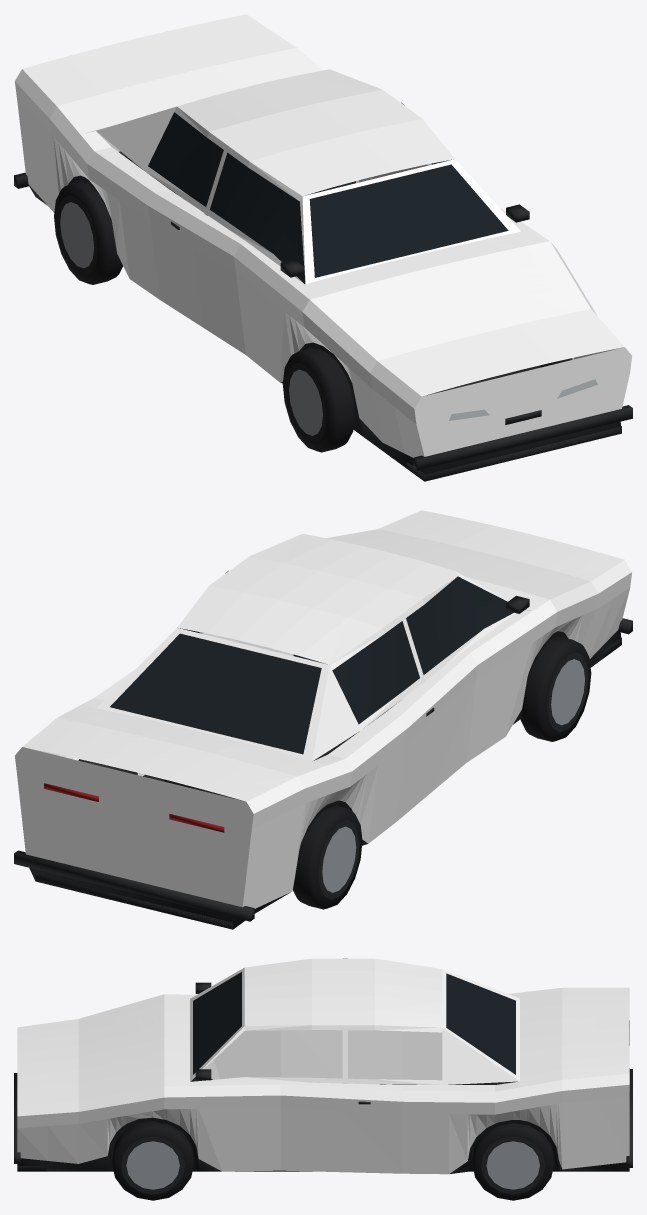
Rendered from ashworth_soberano.glb.
3 renders of one model, top to bottom at view 1: azimuth 30°, elevation 25°; view 2: azimuth 150°, elevation 25°; view 3: azimuth 270°, elevation 25°, orthographic. The views are drawn at different scales.
Parts seen in each view (by area): view 1: Body_Paint, Body_Details, Mount_FrontLeft_Wheel_Details, Mount_RearLeft_Wheel_Details; view 2: Body_Paint, Body_Details, Mount_FrontLeft_Wheel_Details, Mount_RearLeft_Wheel_Details; view 3: Body_Paint, Body_Details, Mount_FrontRight_Wheel_Details, Mount_RearRight_Wheel_Details.
Boxes of the visible parts, left/top/right/bottom form: Body_Paint: left=14, top=14, right=631, bottom=457; Body_Details: left=14, top=112, right=632, bottom=481; Mount_FrontLeft_Wheel_Details: left=282, top=347, right=354, bottom=452; Mount_RearLeft_Wheel_Details: left=54, top=180, right=122, bottom=284; Body_Paint: left=15, top=510, right=631, bottom=908; Body_Details: left=14, top=576, right=632, bottom=929; Mount_FrontLeft_Wheel_Details: left=520, top=636, right=591, bottom=741; Mount_RearLeft_Wheel_Details: left=293, top=805, right=362, bottom=909; Body_Paint: left=17, top=958, right=629, bottom=1174; Body_Details: left=14, top=972, right=632, bottom=1173; Mount_FrontRight_Wheel_Details: left=112, top=1121, right=194, bottom=1200; Mount_RearRight_Wheel_Details: left=472, top=1123, right=554, bottom=1200.
Bounding box in the file's own units: 1.99 × 1.48 × 5.11.
2 materials, 1 textured.
